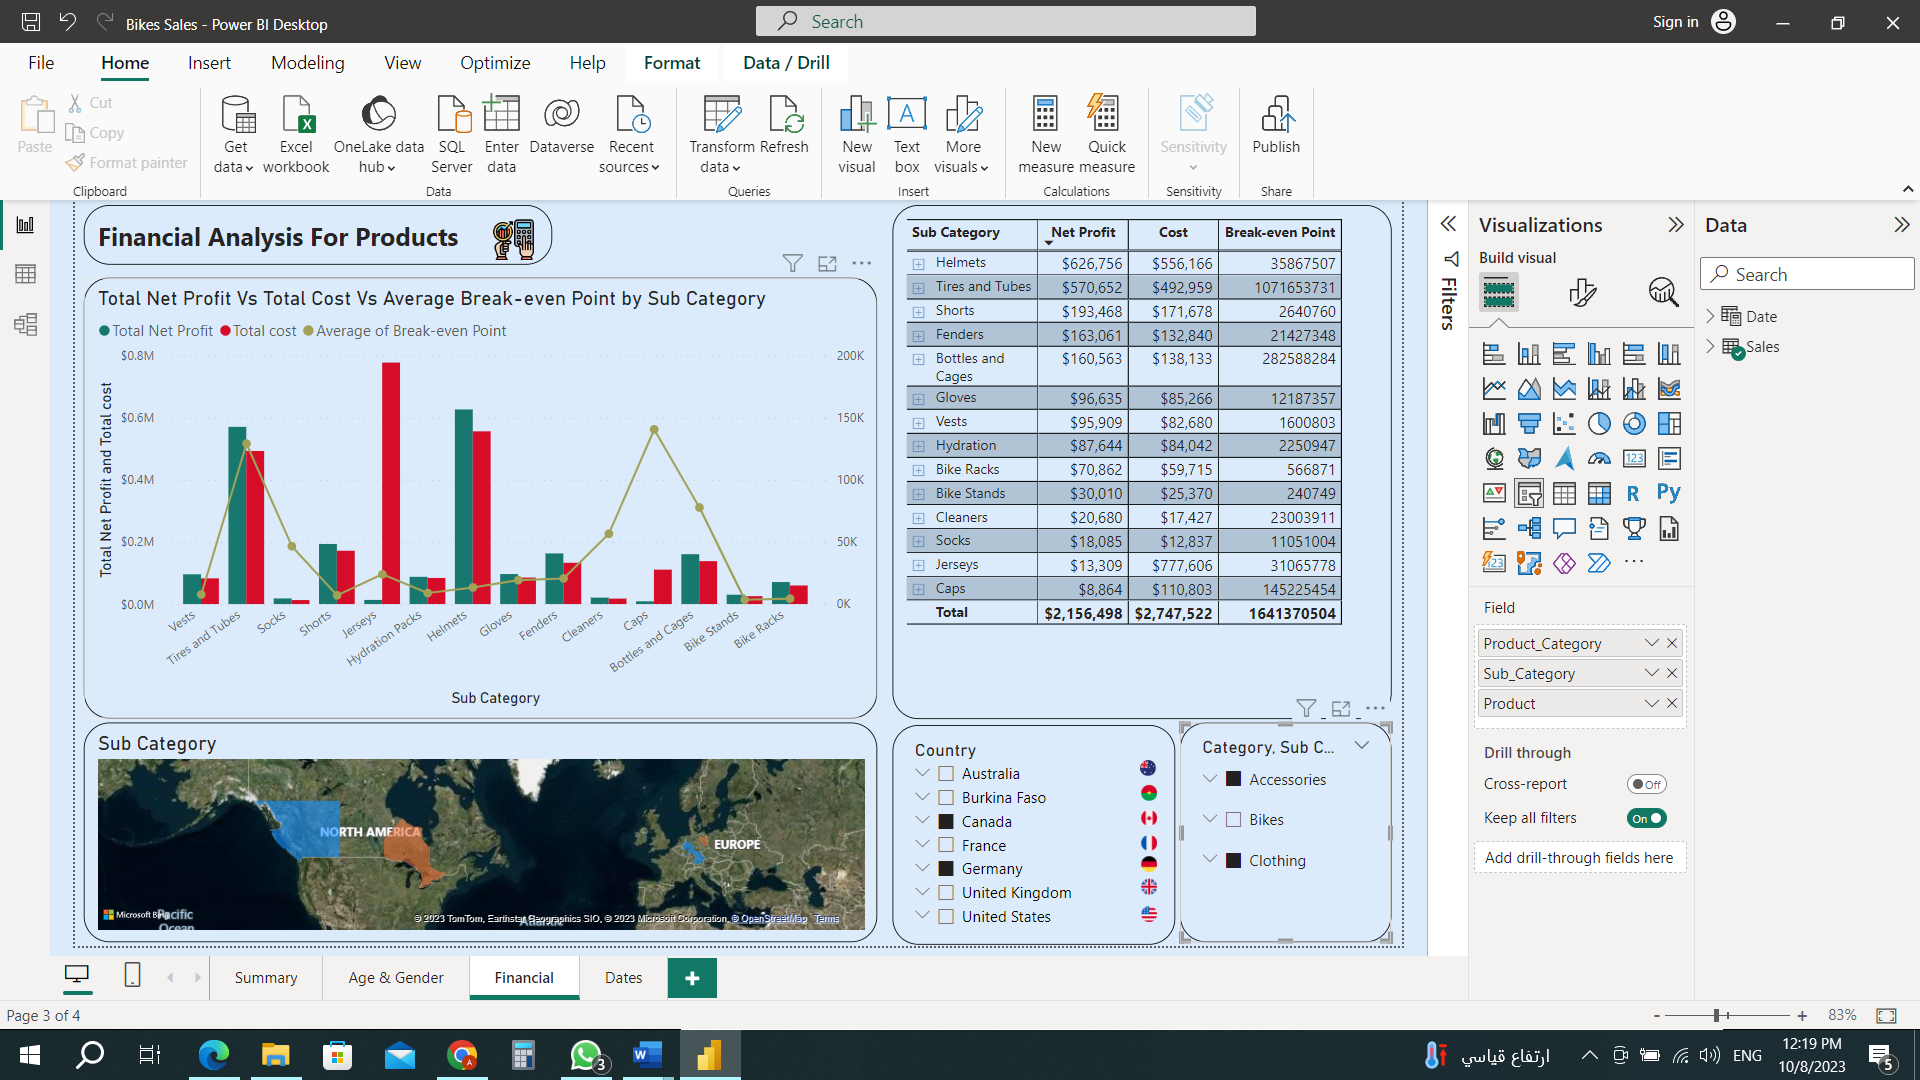

The dashboard page shown, as its layout file describes it:
{"tool":"powerbi","page":{"name":"Financial","canvas":[1280,720],"ordinal":2},"visuals":[{"type":"lineClusteredColumnComboChart","title":"Total Net Profit Vs Total Cost Vs Average Break-even Point by Sub Category","fields":{"Category":["Sales.Sub_Category"],"Y2":["Avg(Sales.Break-even Point)"],"Y":["Sum(Sales.Net Profit)","Sum(Sales.cost)"]},"box":[8.4,74.8,765.8,425.7],"z":0},{"type":"slicer","fields":{"Values":["Sales.Product_Category","Sales.Sub_Category","Sales.Product"]},"box":[1066.1,504.1,203.8,212.3],"z":1000},{"type":"slicer","fields":{"Values":["Sales.Corrected Country","Sales.State"]},"box":[788.7,506.5,272.6,212.3],"z":2000},{"type":"image","box":[1024.3,608,25,25],"z":3000},{"type":"image","box":[1024.3,628,25,25],"z":4000},{"type":"image","box":[1024.3,650,25,25],"z":5000},{"type":"image","box":[1024.3,677,25,25],"z":6000},{"type":"image","box":[1024.3,584,25,25],"z":7000},{"type":"image","box":[1023,536,25,25],"z":8000},{"type":"image","box":[1219.3,583.7,35,35],"z":9000},{"type":"image","box":[1219.3,623.5,35,33.8],"z":10000},{"type":"image","box":[1219.3,545.1,35,30.2],"z":11000},{"type":"textbox","box":[8.4,5,452,57.9],"z":12000},{"type":"image","box":[398,13.3,49.4,49.4],"z":13000},{"type":"image","box":[1024,560,25,25],"z":17000},{"type":"pivotTable","fields":{"Rows":["Sales.Sub_Category","Sales.Product"],"Values":["Sum(Sales.Net Profit)","Sum(Sales.cost)","Sum(Sales.Break-even Point)"]},"box":[788.7,4.8,481.2,495.7],"z":18000},{"type":"filledMap","title":" Sub Category","fields":{"Category":["Sales.State"],"Series":["Sales.Sub_Category"]},"box":[8.4,504.1,765.8,212.3],"z":19000}]}

Visuals, with their boxes on the page's 1280x720 design canvas (x1, y1, x2, y2). These are canvas units, not pixel positions in the 1920x1080 screenshot, which may show the page scaled, cropped or inside an application window:
"Total Net Profit Vs Total Cost Vs Average Break-even Point by Sub Category" lineClusteredColumnComboChart: left=8, top=75, right=774, bottom=500
slicer - Sales.Product_Category x Sales.Sub_Category: left=1066, top=504, right=1270, bottom=716
slicer - Sales.Corrected Country x Sales.State: left=789, top=506, right=1061, bottom=719
image: left=1024, top=608, right=1049, bottom=633
image: left=1024, top=628, right=1049, bottom=653
image: left=1024, top=650, right=1049, bottom=675
image: left=1024, top=677, right=1049, bottom=702
image: left=1024, top=584, right=1049, bottom=609
image: left=1023, top=536, right=1048, bottom=561
image: left=1219, top=584, right=1254, bottom=619
image: left=1219, top=624, right=1254, bottom=657
image: left=1219, top=545, right=1254, bottom=575
textbox: left=8, top=5, right=460, bottom=63
image: left=398, top=13, right=447, bottom=63
image: left=1024, top=560, right=1049, bottom=585
pivotTable - Sales.Sub_Category x Sales.Product: left=789, top=5, right=1270, bottom=500
" Sub Category" filledMap: left=8, top=504, right=774, bottom=716
